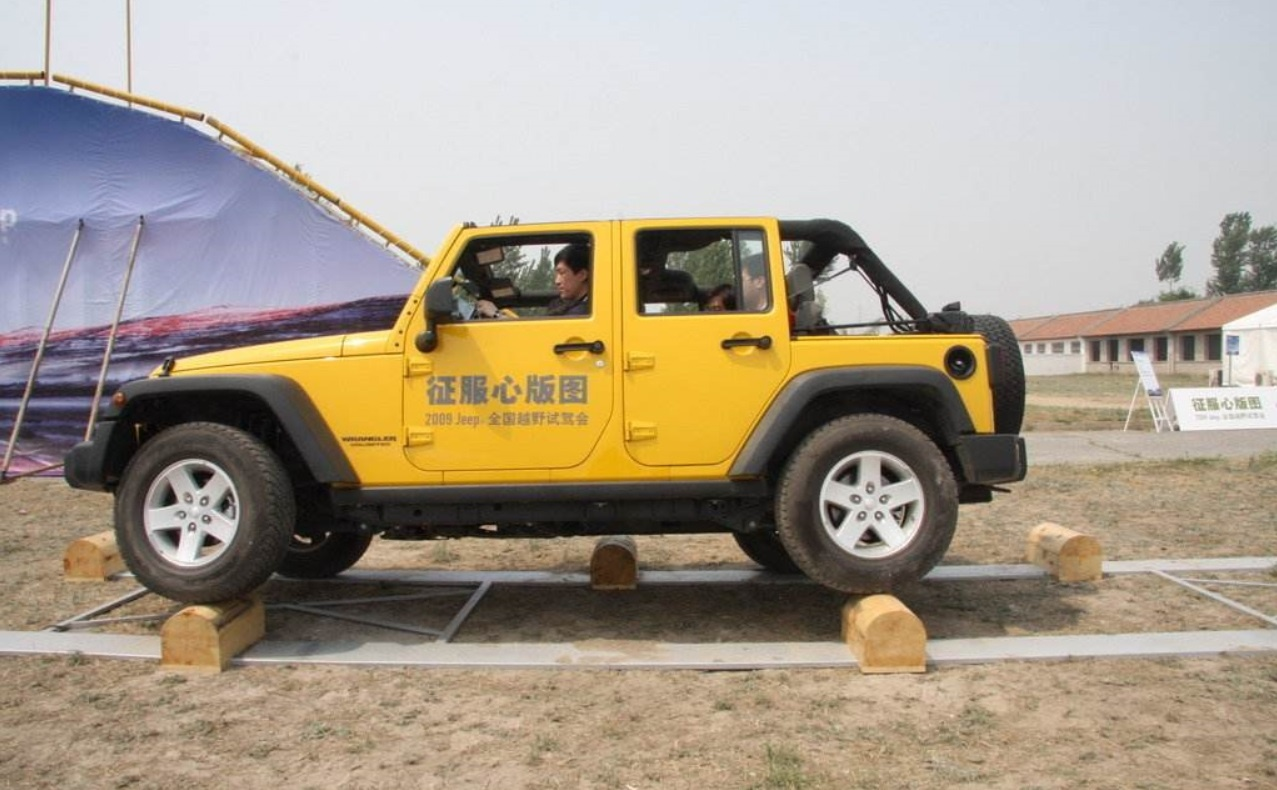jeep: (121, 213, 1022, 614)
